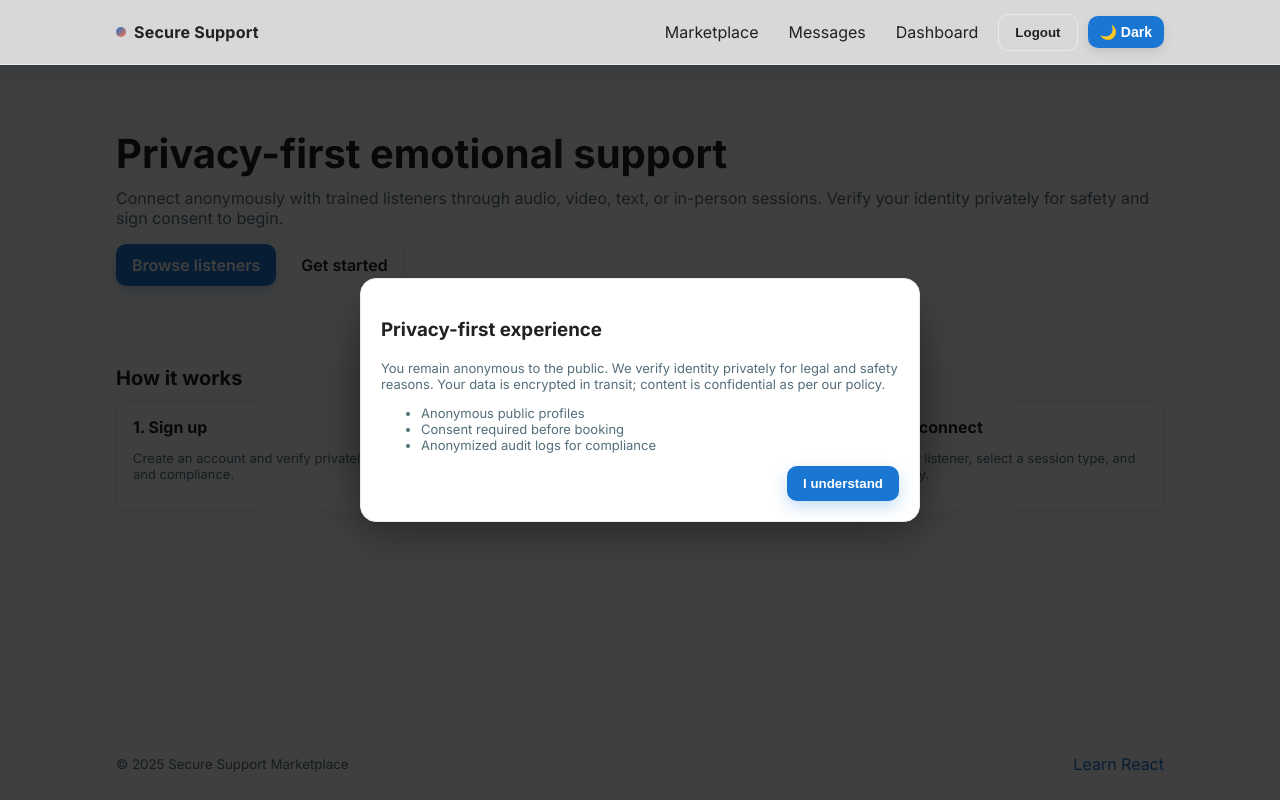
Scenario: App consent and privacy overlays › shows PrivacyOverlay and ConsentModal, can dismiss both
Expected: the heading "Privacy-first experience" is shown, [381,318,602,341]
Expected: the heading "Review and Sign Consent" is shown, [381,354,612,377]
Note: Dismiss privacy overlay
Click the button "I understand" at coordinates (843, 483), box [787,466,899,501]
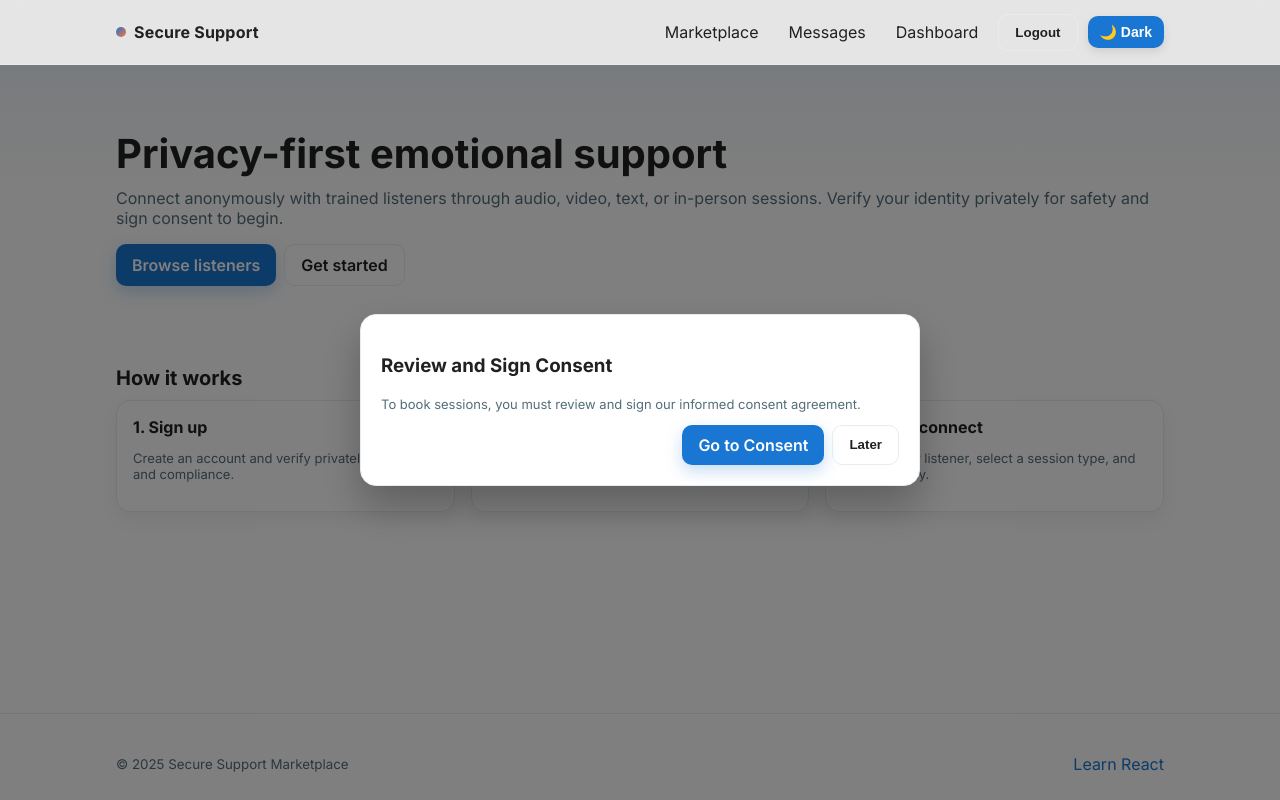
Now the heading "Privacy-first experience" is gone
Note: Dismiss consent modal by clicking "Later"
Click the button "Later" at coordinates (866, 445), box [832,425,899,465]
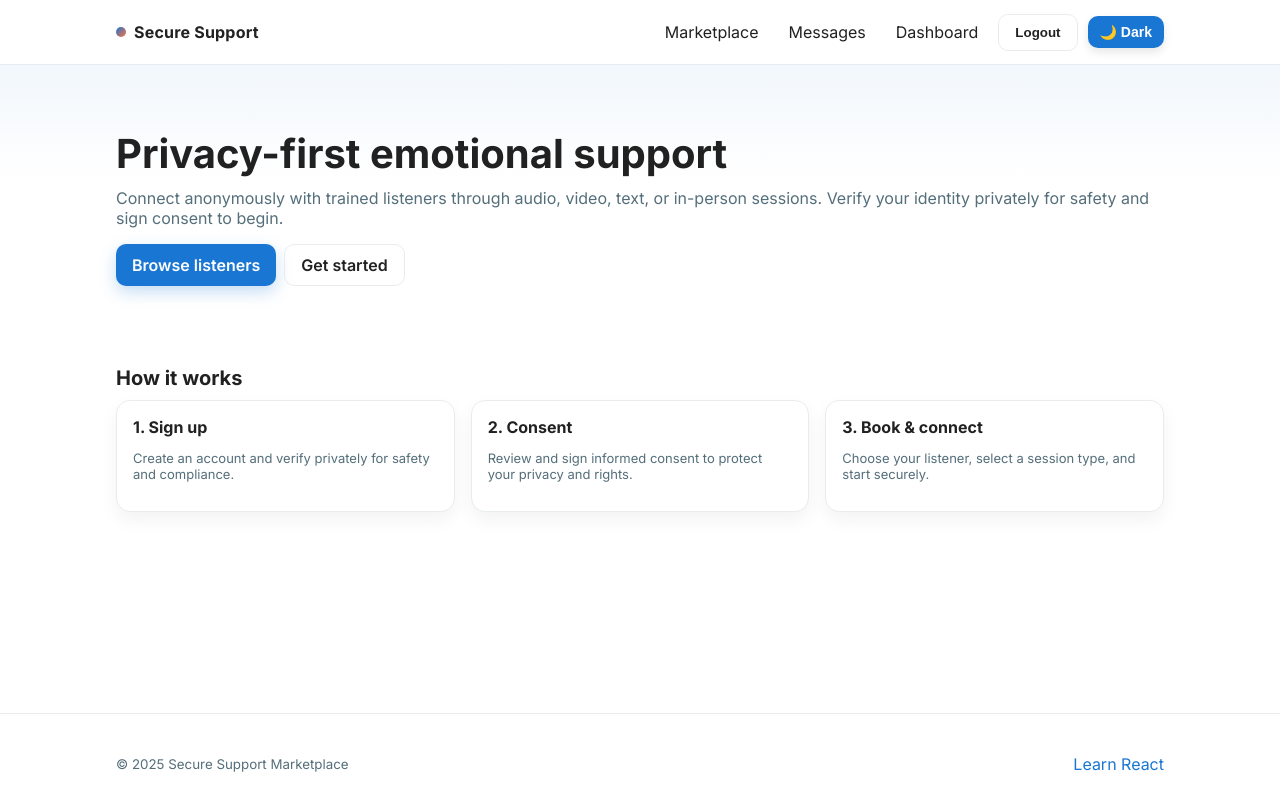
Now the heading "Review and Sign Consent" is gone
